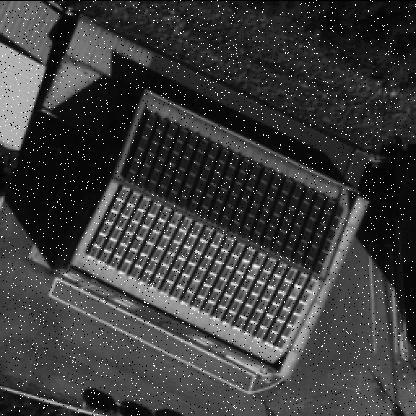solar-pv-panel: (88, 112, 342, 350)
